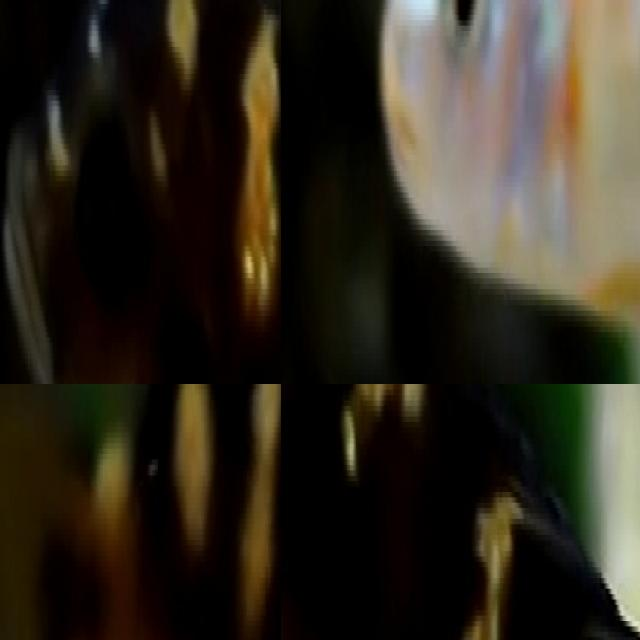fish: (0, 0, 281, 384), (281, 384, 640, 640)
